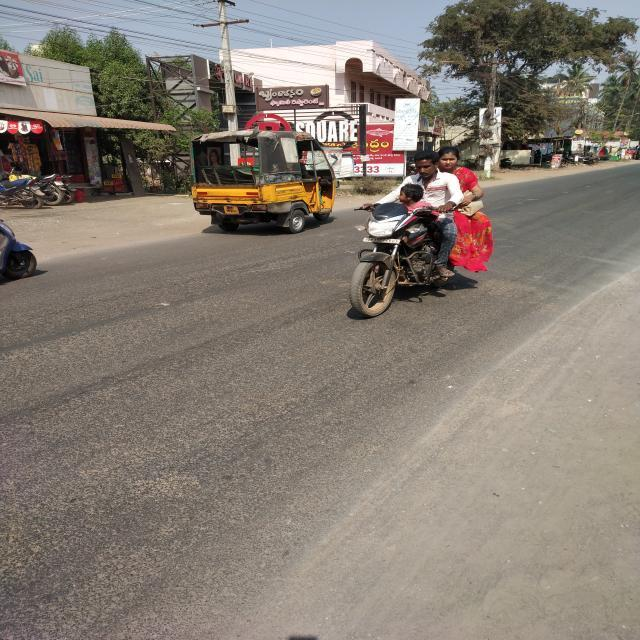auto_back: (187, 122, 355, 240)
two_wheeler_front: (343, 198, 488, 325)
